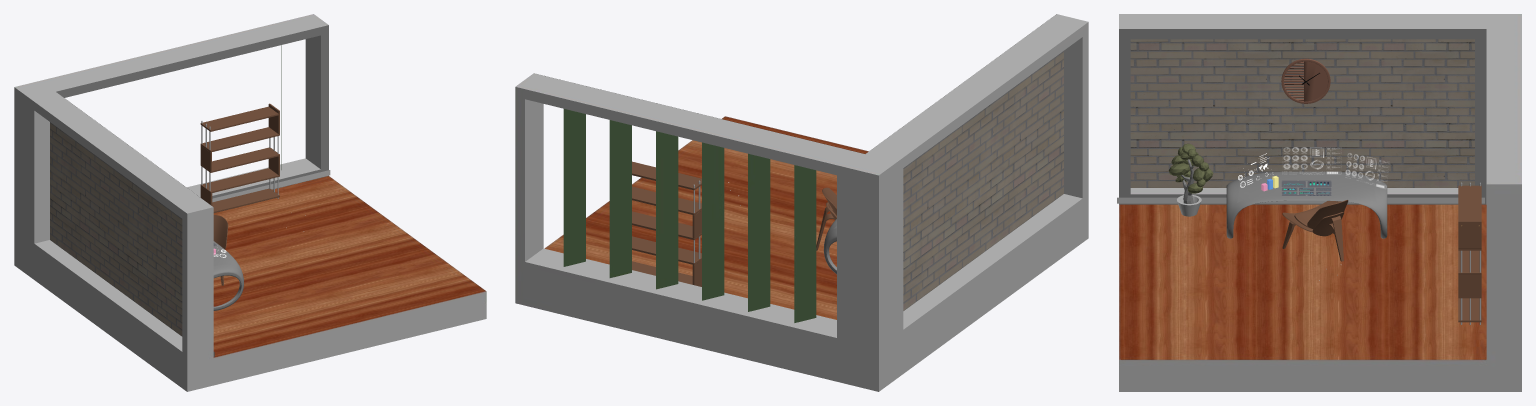
3 views of the same model, side by side, from view 1: azimuth 30°, elevation 25°; view 2: azimuth 150°, elevation 25°; view 3: azimuth 270°, elevation 25° (orthographic). The views are drawn at different scales.
Visible parts, largest first — view 1: Icosphere.001, Plane.017, Office Shelf.001, Plane.003, Back leg; view 2: Icosphere.001, Plane.017, Office Shelf.001, Back leg; view 3: Icosphere.001, Plane.017, Plane.003, Office Shelf.001, 2461497_white, clockDisk, Back leg, Oak.001.
Boxes of the visible parts, box(x1,y1,x2,y2) form: Icosphere.001: box(14, 14, 486, 391); Plane.017: box(50, 122, 182, 336); Office Shelf.001: box(200, 103, 279, 212); Plane.003: box(213, 241, 243, 310); Back leg: box(213, 215, 229, 285); Icosphere.001: box(515, 14, 1088, 391); Plane.017: box(903, 51, 1063, 310); Office Shelf.001: box(632, 161, 701, 286); Back leg: box(816, 187, 836, 250); Icosphere.001: box(1117, 14, 1521, 391); Plane.017: box(1130, 39, 1474, 187); Plane.003: box(1226, 171, 1387, 238); Office Shelf.001: box(1458, 182, 1481, 324); 2461497_white: box(1238, 147, 1386, 195); clockDisk: box(1281, 58, 1330, 103); Back leg: box(1282, 200, 1348, 261); Oak.001: box(1168, 143, 1213, 203).
Size of the model in its own units: 8.43 by 4.78 by 8.45.
Materials: 16 (6 with a texture image).
